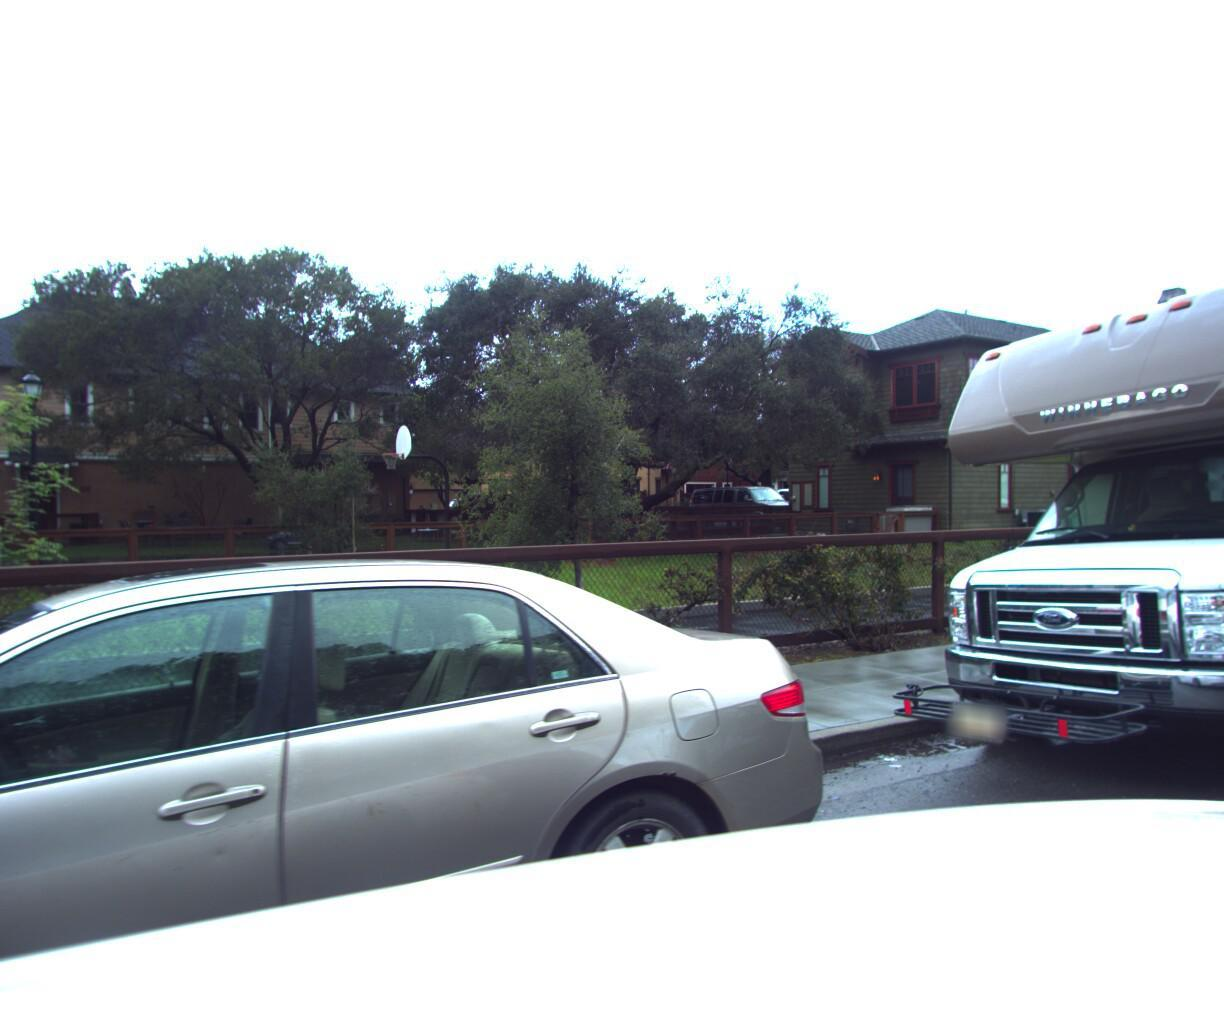car: (0, 526, 902, 1024), (680, 484, 805, 528)
other_vehicle: (852, 153, 1224, 865)
